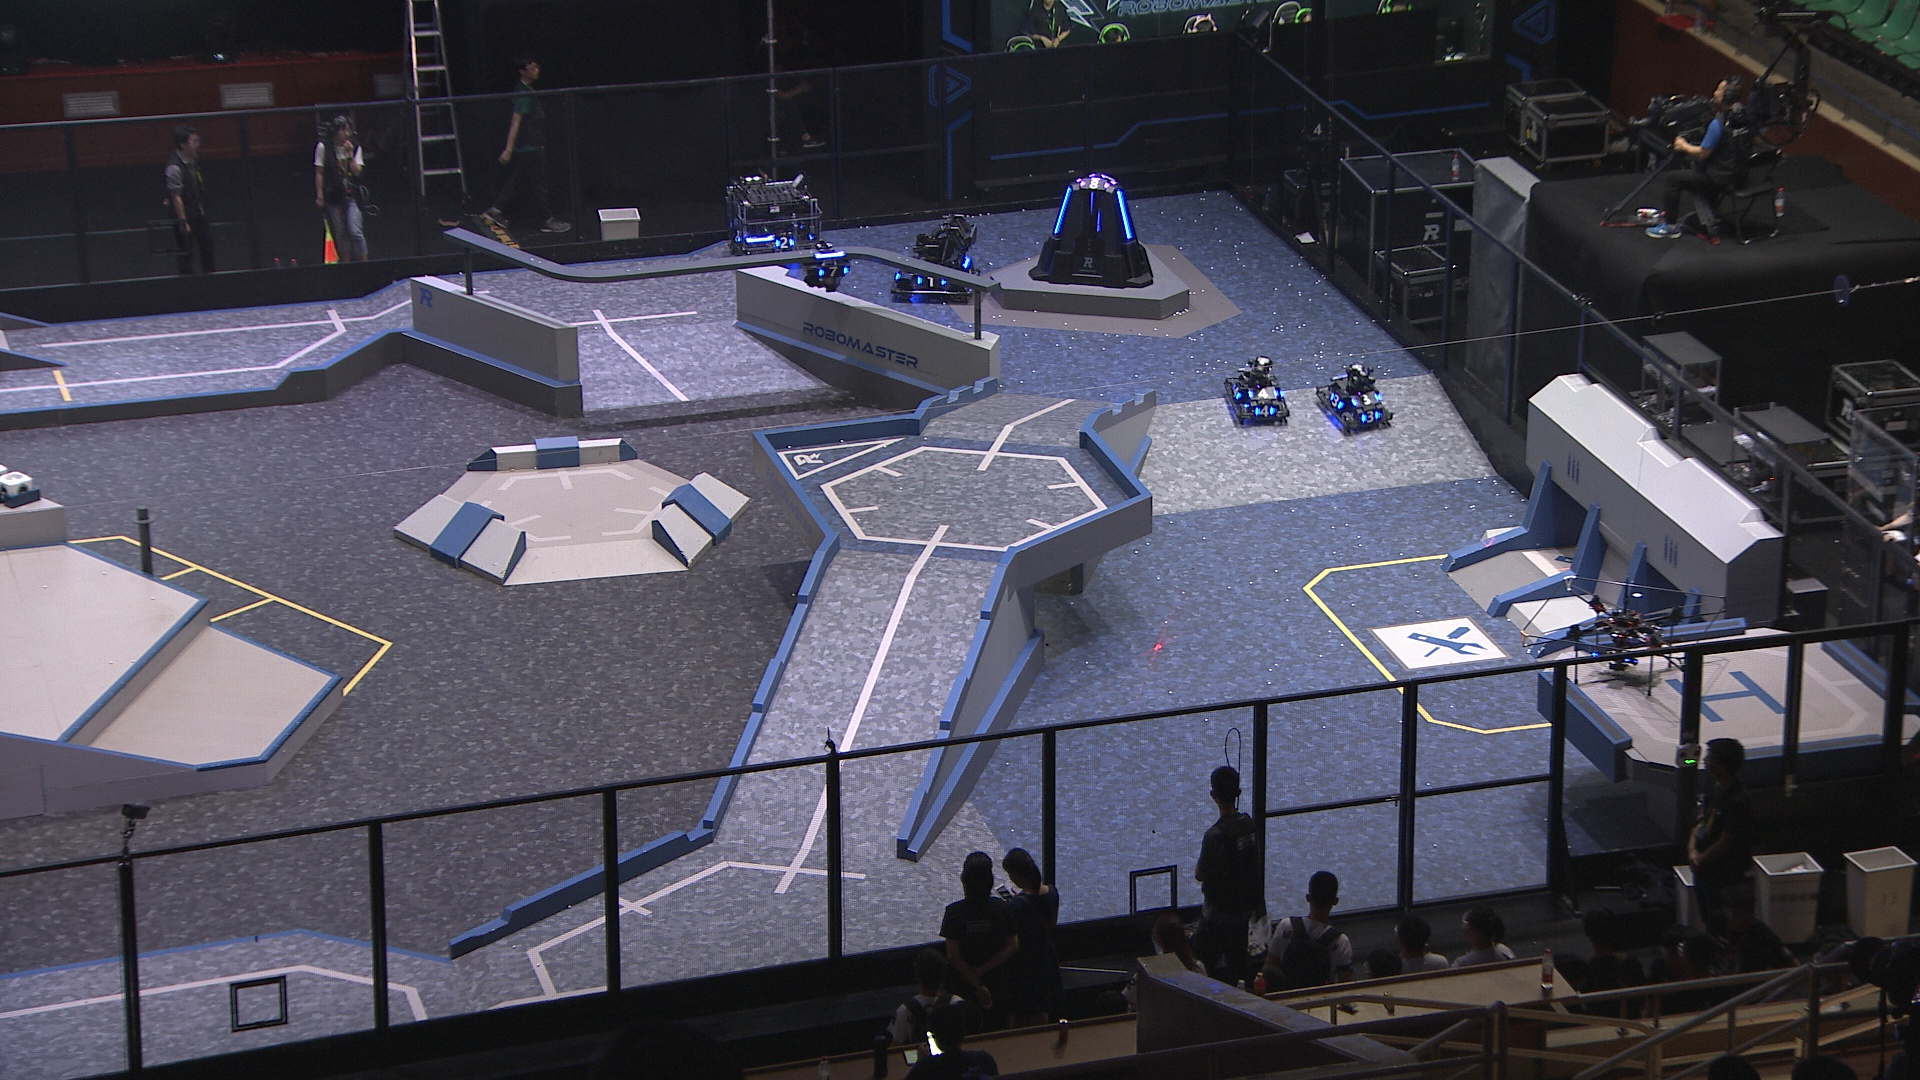armor: (1051, 185, 1073, 233), (1116, 191, 1135, 239), (913, 276, 949, 289), (1352, 392, 1385, 406), (818, 266, 851, 280), (1247, 386, 1280, 400), (1358, 410, 1385, 425), (1328, 392, 1346, 411), (1228, 381, 1244, 404), (1254, 405, 1278, 419), (773, 237, 798, 251), (731, 229, 745, 244)
base: (1025, 169, 1156, 290)
car: (723, 173, 822, 268), (887, 214, 986, 305), (1313, 363, 1395, 431), (1222, 353, 1291, 425)
ignore: (1077, 177, 1112, 191)
watcher: (803, 239, 855, 291)
